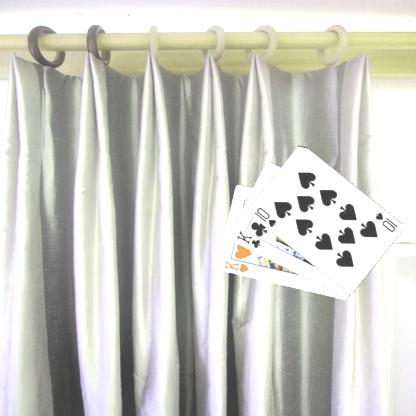10S: (372, 209, 399, 234), (252, 204, 278, 229)
KC: (234, 228, 266, 250)
KH: (221, 258, 250, 274)
